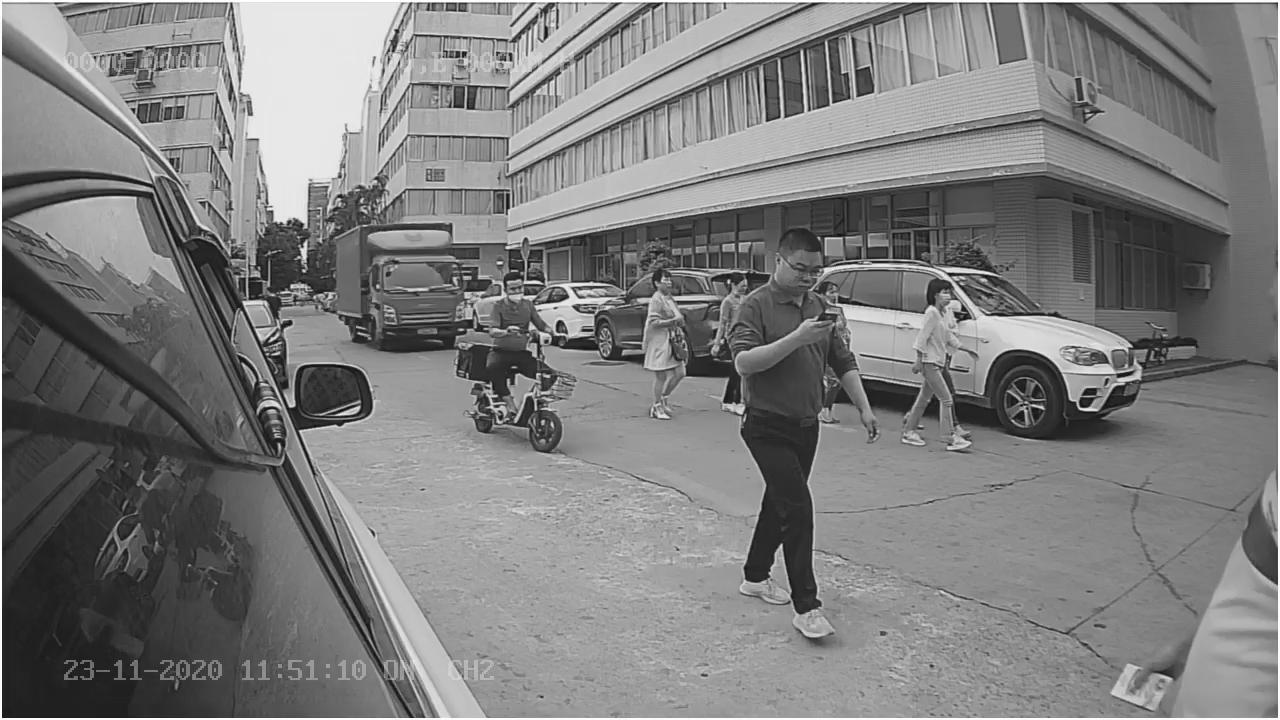person: (725, 220, 878, 647), (630, 264, 698, 419)
